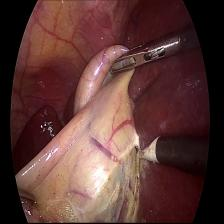Grasper: (106, 26, 180, 79), (19, 189, 37, 214)
Hook: (128, 132, 163, 168)
